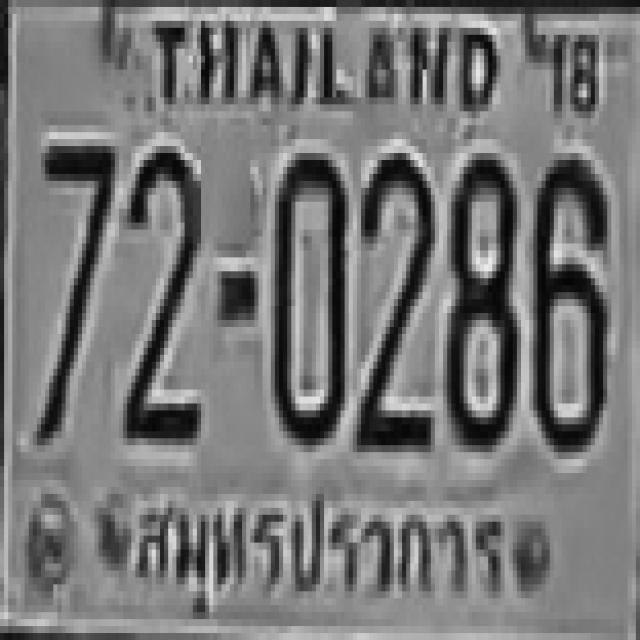0: (274, 151, 348, 443)
2: (125, 142, 203, 441), (353, 150, 431, 448)
6: (532, 157, 606, 449)
7: (39, 139, 113, 438)
8: (446, 147, 515, 446)
SamutPrakan: (126, 478, 514, 630)
